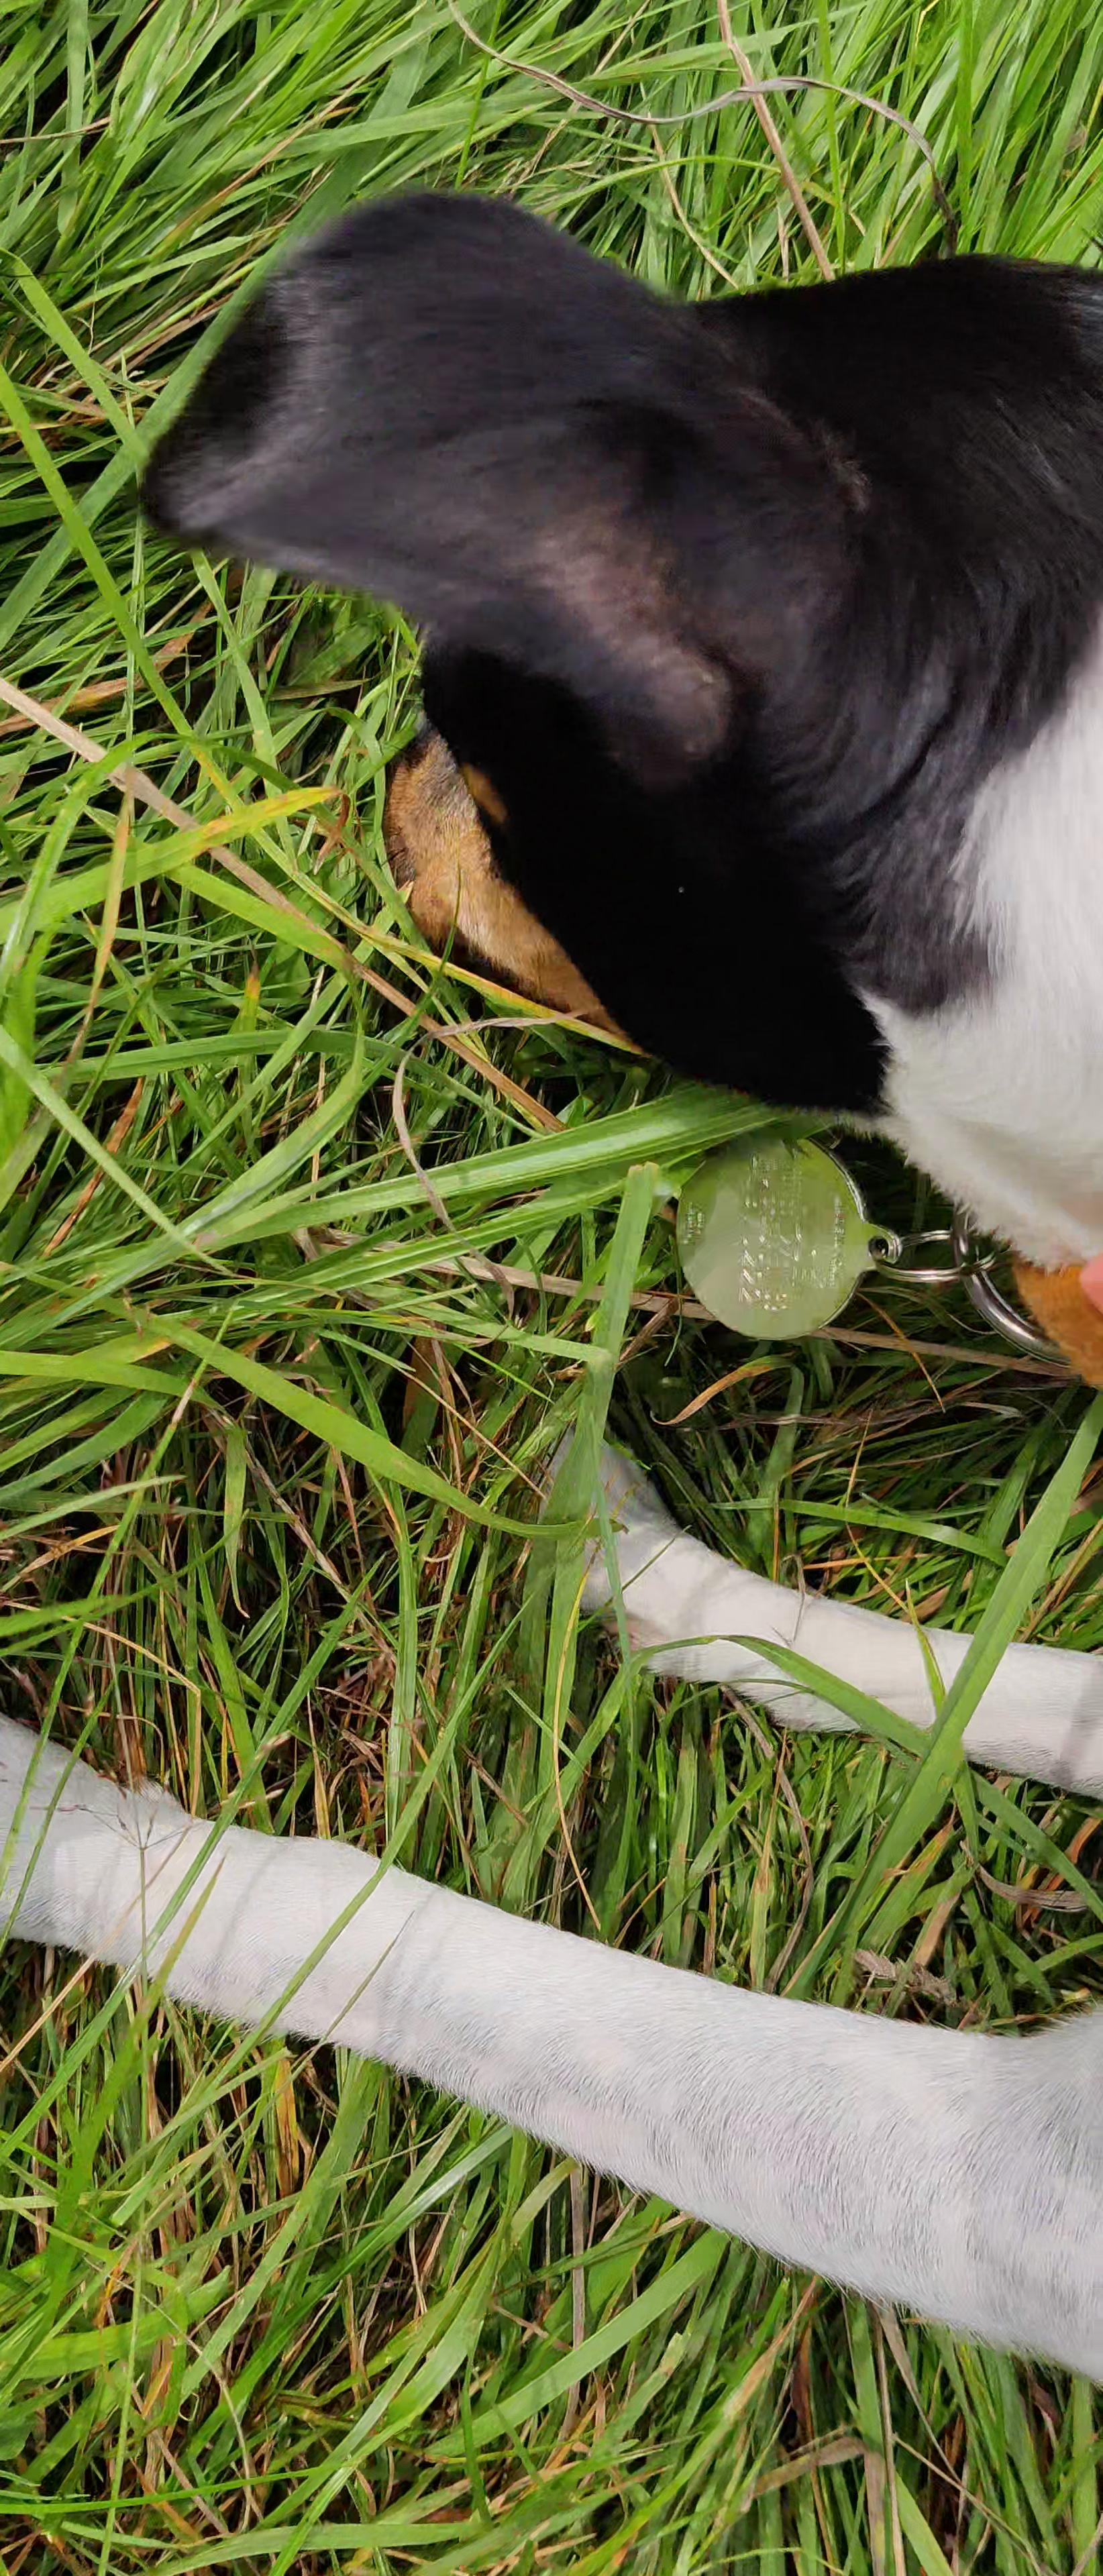Dog: (0, 117, 1103, 2422)
